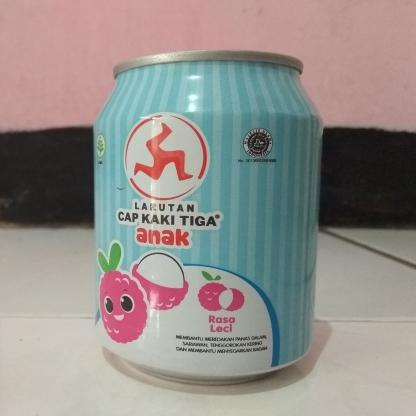can: (88, 47, 323, 388)
